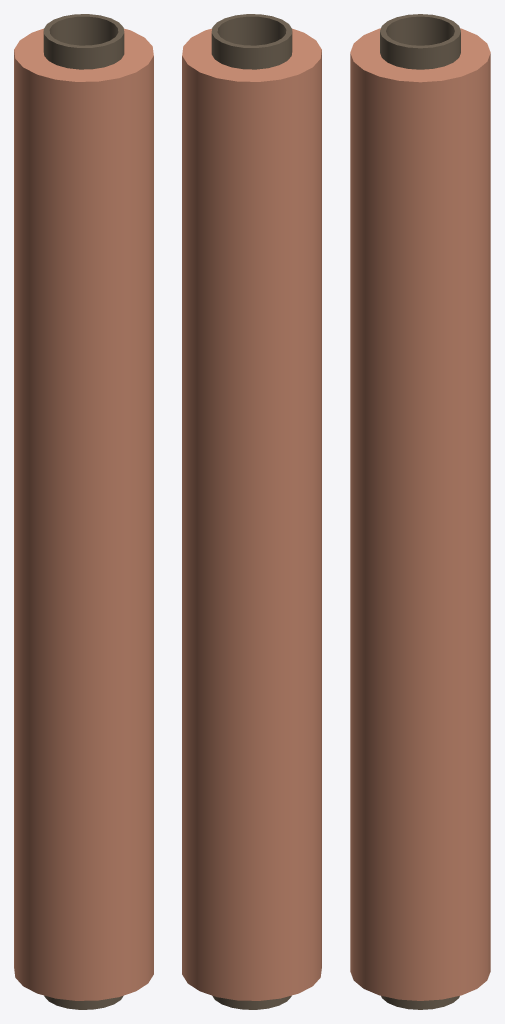
File: RolOranje.fbx
3 views of the same model, side by side, from view 1: azimuth 30°, elevation 25°; view 2: azimuth 150°, elevation 25°; view 3: azimuth 270°, elevation 25° (orthographic).
Visible parts, largest first — view 1: textielrol8; view 2: textielrol8; view 3: textielrol8.
Part boxes in pixels (x1,y1,x2,y2): textielrol8: (14, 14, 153, 1009); textielrol8: (182, 14, 321, 1009); textielrol8: (350, 14, 490, 1009).
Bounding box in the file's own units: 0.2449 × 1.85 × 0.2449.
